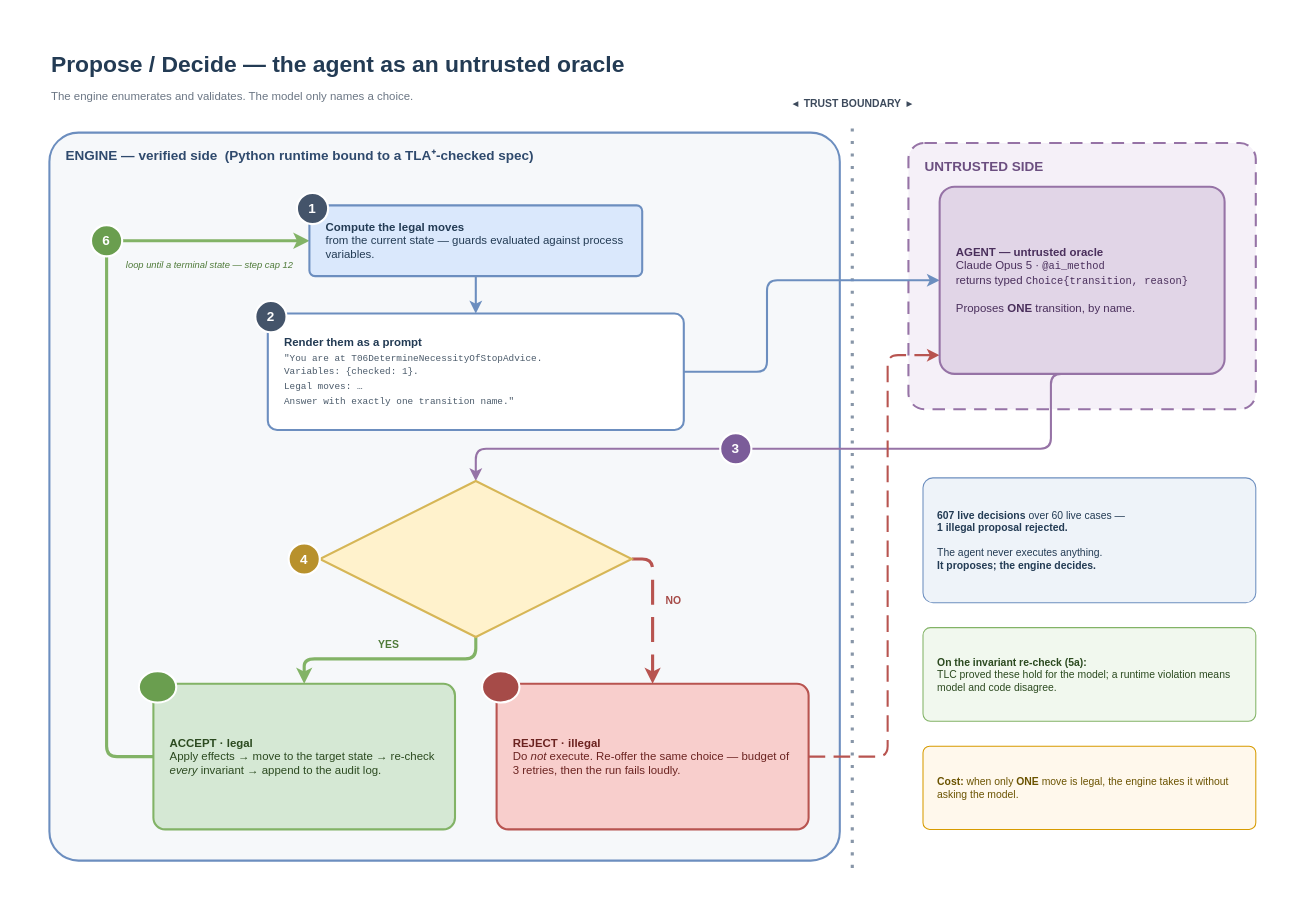
The diagram is 1304 pixels wide and 909 high, and some of its shapes have lost their labels. Here are the shapes that lost their labels. From the top down, the centre of each, then its label:
the point at 475,558: VALIDATE Legal from this state? Guards satisfied?
the point at 157,686: 5a
the point at 500,686: 5b
